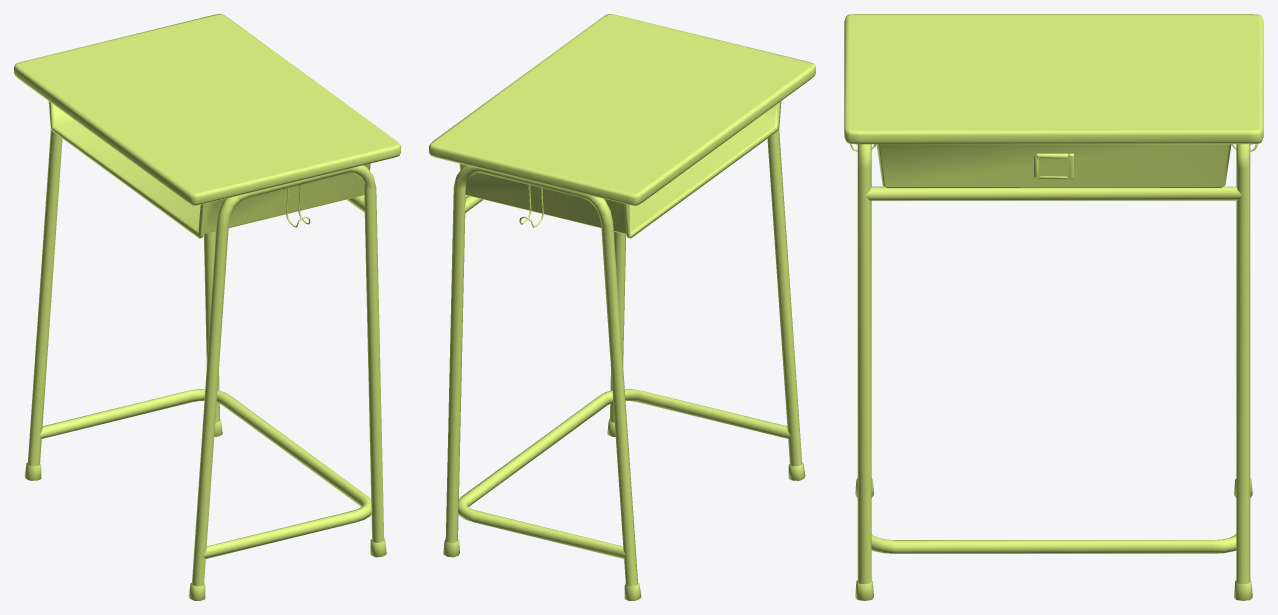
Rendered from Desk.fbx.
3 renders of one model, left to right at view 1: azimuth 30°, elevation 25°; view 2: azimuth 150°, elevation 25°; view 3: azimuth 270°, elevation 25°, orthographic. The views are drawn at different scales.
Visible parts, largest first — view 1: Desk; view 2: Desk; view 3: Desk.
Part boxes in pixels (x1=…): Desk: x1=14, y1=14, x2=400, y2=600; Desk: x1=429, y1=14, x2=815, y2=600; Desk: x1=844, y1=14, x2=1263, y2=600.
Size of the model in its own units: 409 by 759 by 608.
